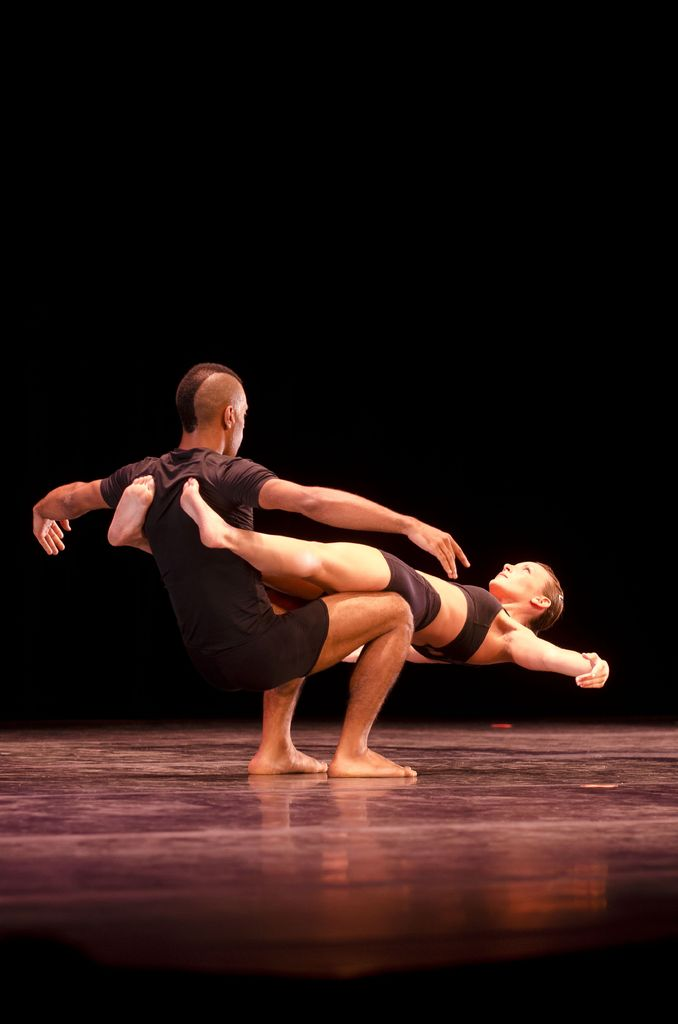Human_hand: (394, 517, 473, 580), (33, 507, 68, 553), (576, 653, 607, 691)
